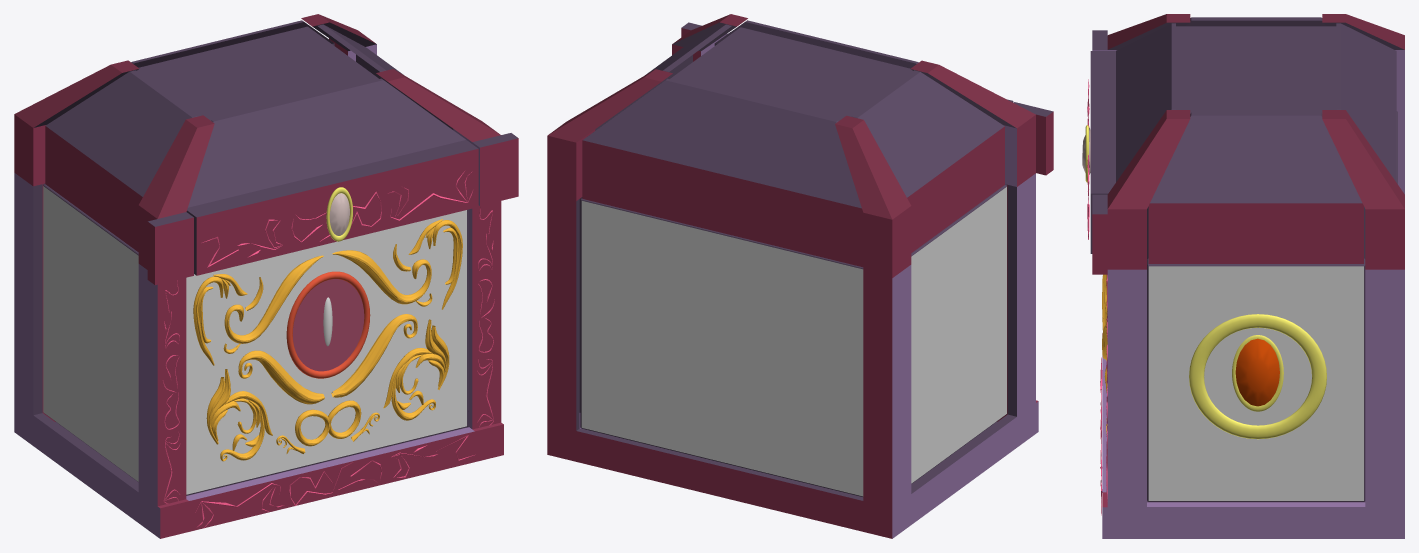
File: pandorabox.fbx
3 renders of one model, left to right at view 1: azimuth 30°, elevation 25°; view 2: azimuth 150°, elevation 25°; view 3: azimuth 270°, elevation 25°, orthographic. The views are drawn at different scales.
Parts seen in each view (by area): view 1: Pandora'sBox_Cycle; view 2: Pandora'sBox_Cycle; view 3: Pandora'sBox_Cycle.
Part boxes in pixels (x1,y1,x2,y2): Pandora'sBox_Cycle: (14, 14, 518, 538); Pandora'sBox_Cycle: (547, 14, 1053, 538); Pandora'sBox_Cycle: (1082, 14, 1404, 538).
Size of the model in its own units: 106 by 104 by 78.72.
